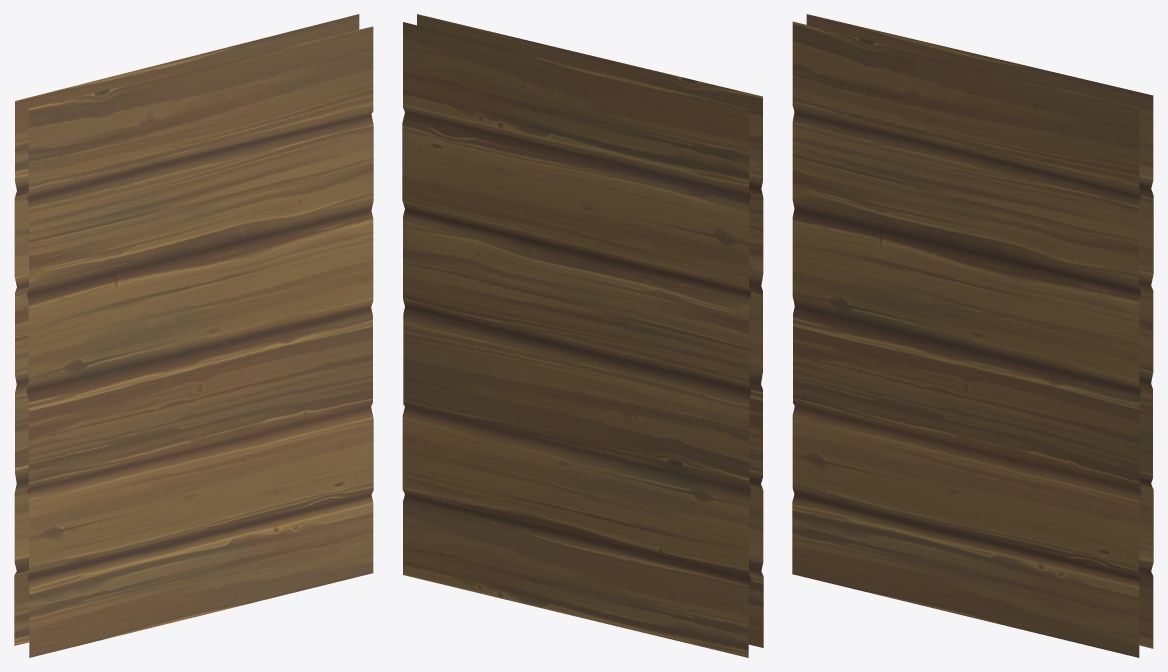
The model's file is SM_MOD_wall_half_planks_hor_town.fbx.
The picture shows the model from 3 angles, left to right: view 1: azimuth 30°, elevation 25°; view 2: azimuth 150°, elevation 25°; view 3: azimuth 330°, elevation 25°; orthographic projection.
Visible parts, largest first — view 1: SM_MOD_wall_half_planks_hor_town; view 2: SM_MOD_wall_half_planks_hor_town; view 3: SM_MOD_wall_half_planks_hor_town.
Part boxes in pixels (bbox=[...]): SM_MOD_wall_half_planks_hor_town: bbox=[14, 14, 373, 657]; SM_MOD_wall_half_planks_hor_town: bbox=[402, 14, 763, 657]; SM_MOD_wall_half_planks_hor_town: bbox=[792, 14, 1153, 657].
Bounding box in the file's own units: 182 × 278 × 13.72.
